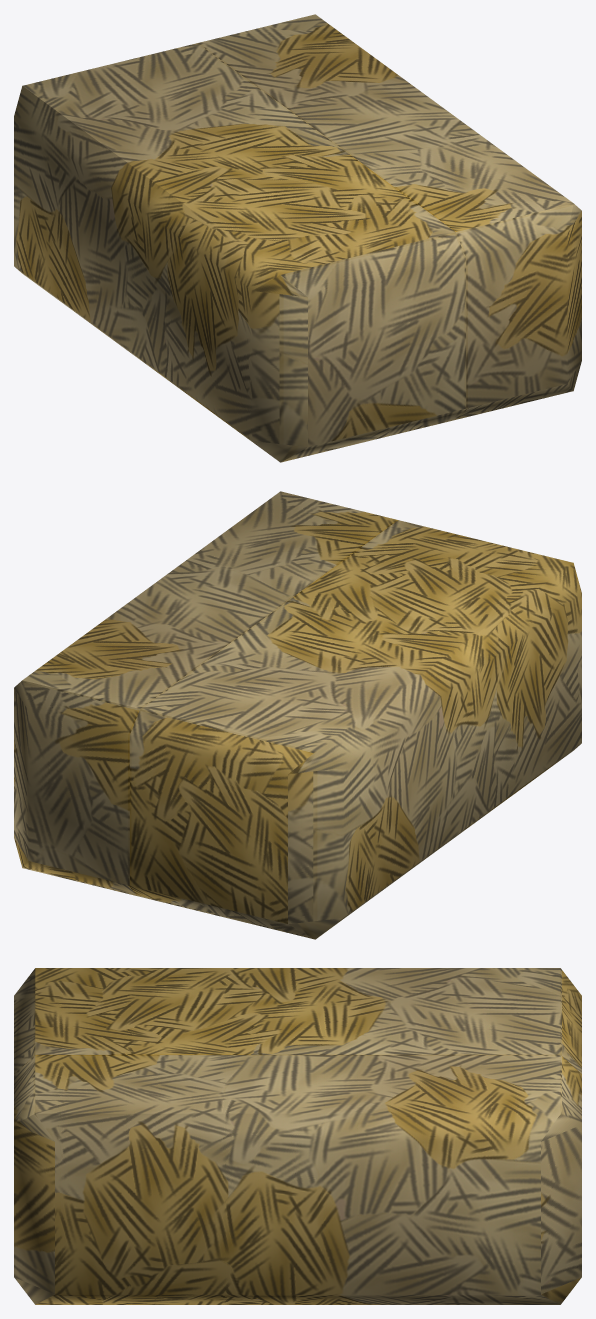
Rendered from HayBale.fbx.
3 views of the same model, one above another, from view 1: azimuth 30°, elevation 25°; view 2: azimuth 150°, elevation 25°; view 3: azimuth 270°, elevation 25° (orthographic).
Parts seen in each view (by area): view 1: HayBale; view 2: HayBale; view 3: HayBale.
Boxes of the visible parts, x1,y1,x2,y2 form: HayBale: (14,14,581,462); HayBale: (14,491,581,939); HayBale: (14,968,581,1304).
Bounding box in the file's own units: 136 × 74.25 × 200.
